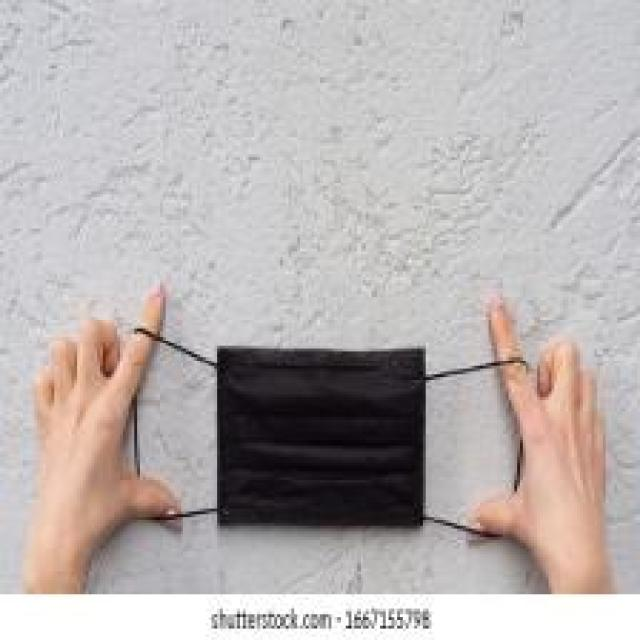Mask: (81, 217, 547, 607)
